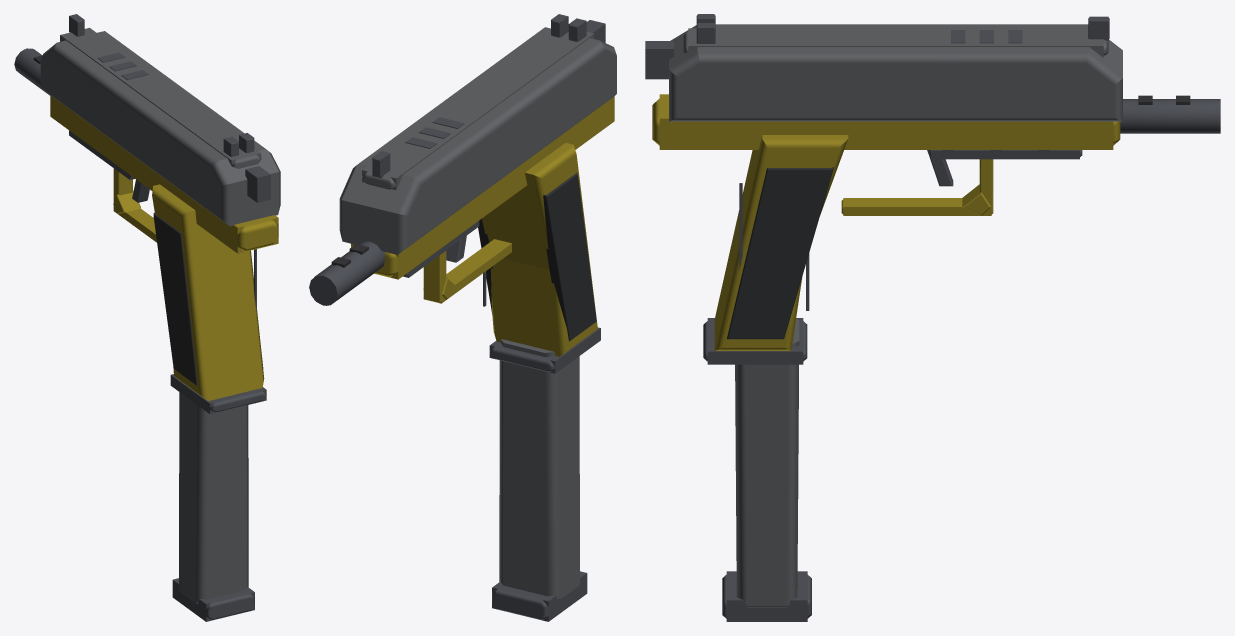
Rendered from p_nail.glb.
3 views of the same model, side by side, from view 1: azimuth 30°, elevation 25°; view 2: azimuth 150°, elevation 25°; view 3: azimuth 270°, elevation 25° (orthographic). The views are drawn at different scales.
Parts seen in each view (by area): view 1: L0, L1; view 2: L0, L1; view 3: L0, L1.
Part boxes in pixels (x1=…): L0: x1=14, y1=14, x2=280, y2=620; L1: x1=15, y1=14, x2=278, y2=621; L0: x1=309, y1=14, x2=616, y2=620; L1: x1=310, y1=14, x2=614, y2=621; L0: x1=645, y1=14, x2=1220, y2=618; L1: x1=659, y1=14, x2=1220, y2=621.
Size of the model in its own units: 0.0396 by 0.272 by 0.241.
